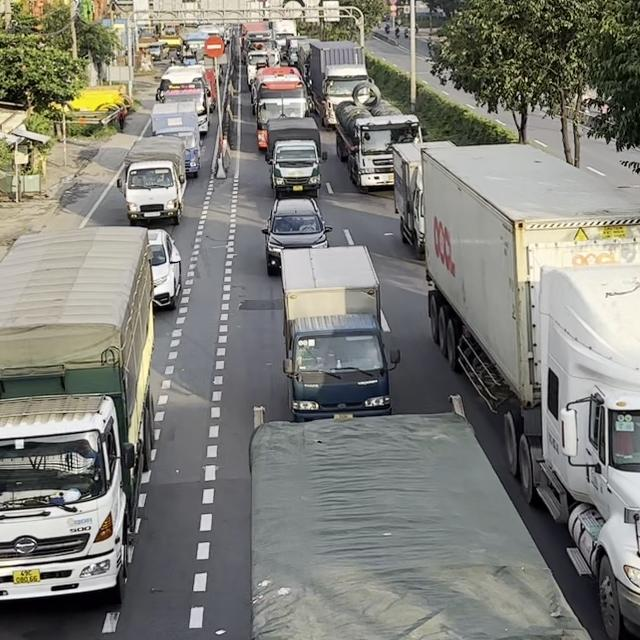bus: (249, 65, 310, 150)
car: (261, 195, 332, 274), (145, 227, 182, 310)
truck: (421, 140, 639, 639), (248, 410, 592, 640), (0, 225, 155, 605), (279, 243, 400, 422), (334, 99, 423, 193), (390, 139, 456, 260), (300, 39, 379, 130), (119, 136, 186, 225), (262, 116, 327, 197), (150, 102, 201, 178)
